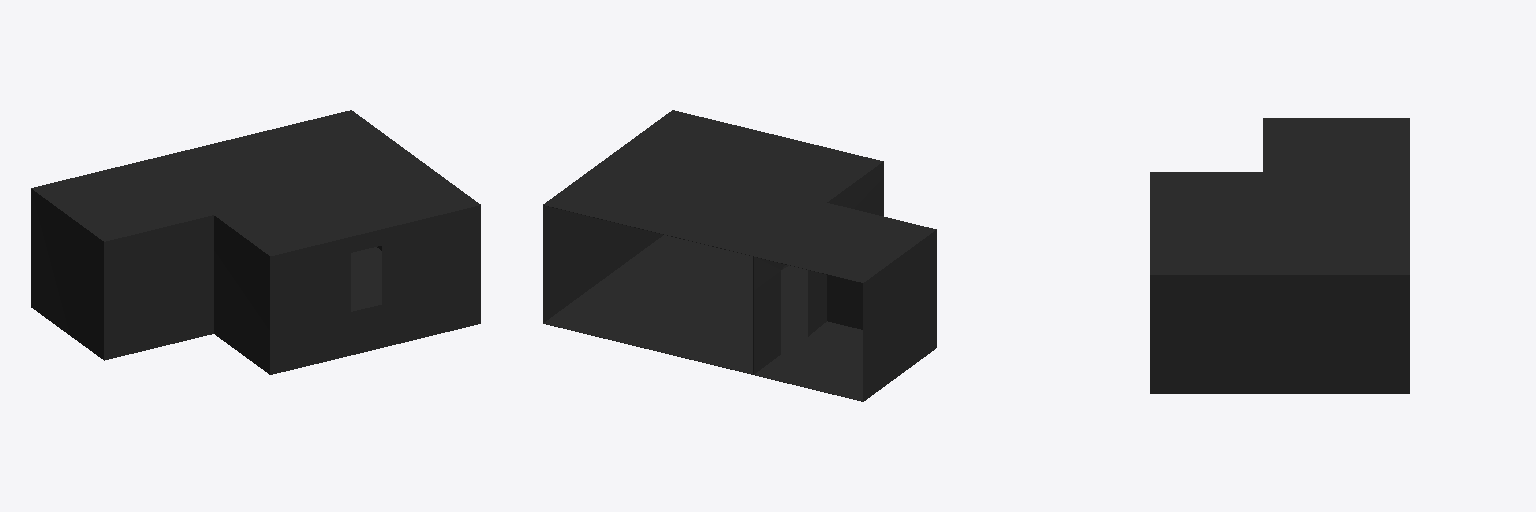
Rendered from pokoj.obj.
3 renders of one model, left to right at view 1: azimuth 30°, elevation 25°; view 2: azimuth 150°, elevation 25°; view 3: azimuth 270°, elevation 25°, orthographic.
Parts seen in each view (by area): view 1: Cube.037_Cube.032; view 2: Cube.037_Cube.032; view 3: Cube.037_Cube.032.
Boxes of the visible parts, box(x1,y1,x2,y2) form: Cube.037_Cube.032: box(31, 110, 480, 374); Cube.037_Cube.032: box(543, 110, 936, 401); Cube.037_Cube.032: box(1150, 118, 1409, 393).
Size of the model in its own units: 8.1 by 2.87 by 5.69.